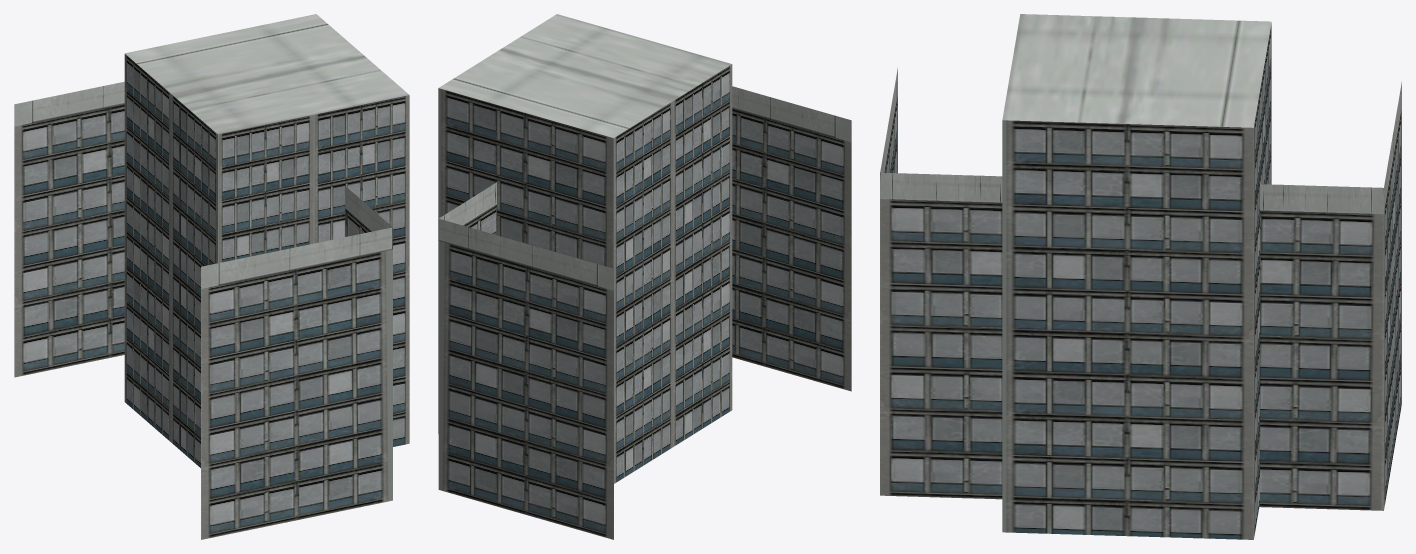
Rendered from 00_03_outside_building_g.dae.
3 renders of one model, left to right at view 1: azimuth 30°, elevation 25°; view 2: azimuth 150°, elevation 25°; view 3: azimuth 270°, elevation 25°, orthographic. The views are drawn at different scales.
Visible parts, largest first — view 1: Bg; view 2: Bg; view 3: Bg.
Boxes of the visible parts, x1=… form: Bg: x1=14, y1=14, x2=409, y2=539; Bg: x1=438, y1=14, x2=851, y2=539; Bg: x1=880, y1=14, x2=1401, y2=539.
Size of the model in its own units: 40.67 by 51.29 by 58.46.
